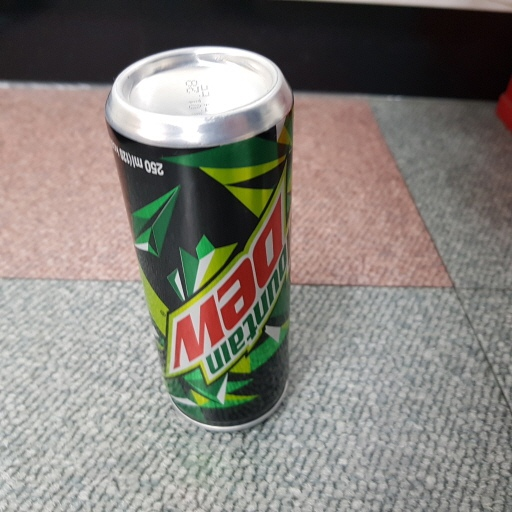Metal_0: (104, 42, 299, 434)
